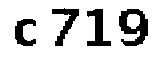1: (85, 5, 113, 52)
7: (48, 6, 80, 49)
9: (118, 6, 149, 51)
c: (14, 19, 39, 48)
